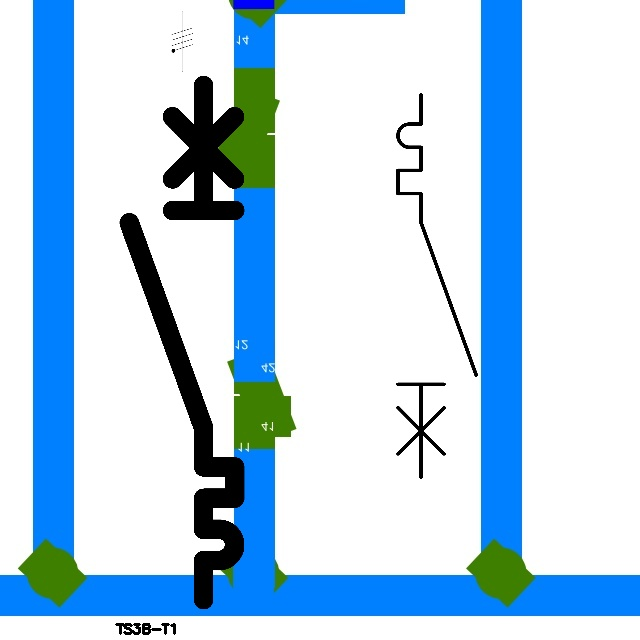interruptor_termomagnetico: (116, 72, 248, 613), (388, 85, 486, 486)
